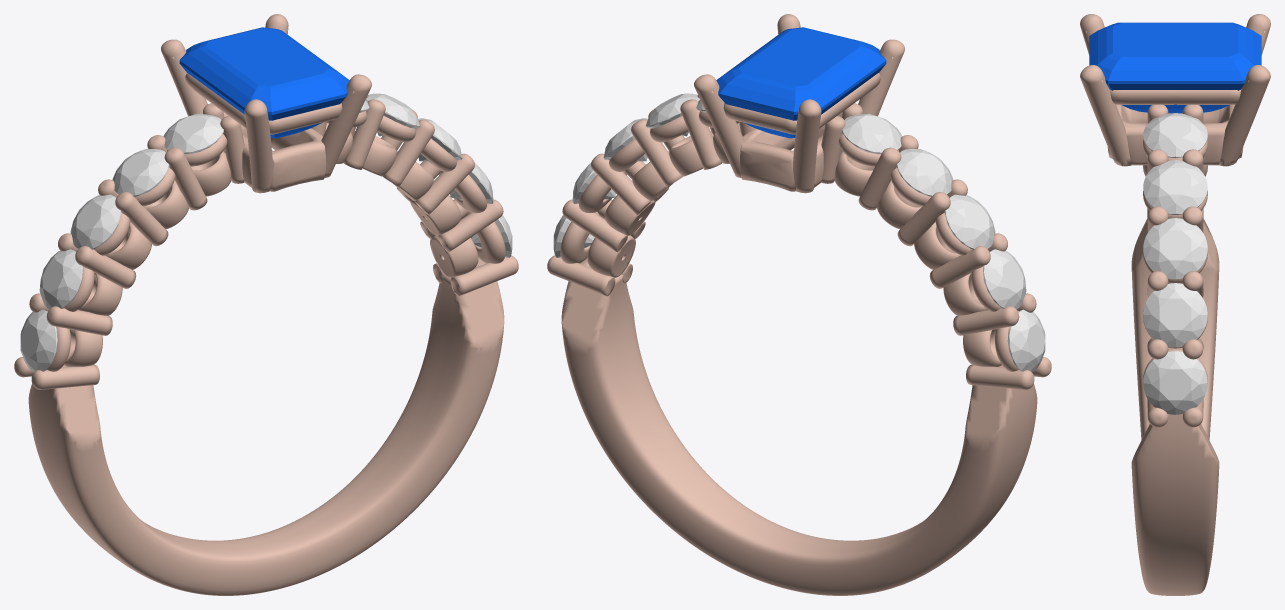
The model's file is bluesapphire-emerald-rosegold-4prong-straighttaperedband-11stone.glb.
3 views of the same model, side by side, from view 1: azimuth 30°, elevation 25°; view 2: azimuth 150°, elevation 25°; view 3: azimuth 270°, elevation 25° (orthographic).
Visible parts, largest first — view 1: metal, stone, side.004, side.003, side.005, side, side.006, side.010; view 2: metal, stone, side.004, side.003, side.005, side, side.006, side.010; view 3: metal, stone, side.008, side.007, side.009, side.010, side.011.
Part boxes in pixels (x1,y1,x2,y2): metal: (14, 14, 518, 595); stone: (179, 27, 349, 138); side.004: (70, 194, 121, 249); side.003: (39, 249, 82, 308); side.005: (112, 148, 169, 196); side: (20, 309, 58, 371); side.006: (163, 113, 223, 154); side.010: (366, 93, 420, 136); metal: (547, 14, 1051, 595); stone: (716, 27, 886, 138); side.004: (944, 194, 995, 249); side.003: (983, 249, 1026, 308); side.005: (896, 148, 953, 196); side: (1007, 309, 1045, 371); side.006: (842, 113, 902, 154); side.010: (645, 93, 699, 136); metal: (1080, 14, 1270, 595); stone: (1089, 22, 1261, 113); side.008: (1143, 283, 1207, 347); side.007: (1143, 351, 1207, 414); side.009: (1143, 218, 1207, 279); side.010: (1143, 160, 1207, 214); side.011: (1143, 113, 1207, 158).
Size of the model in its own units: 21.87 by 22.75 by 7.4.
